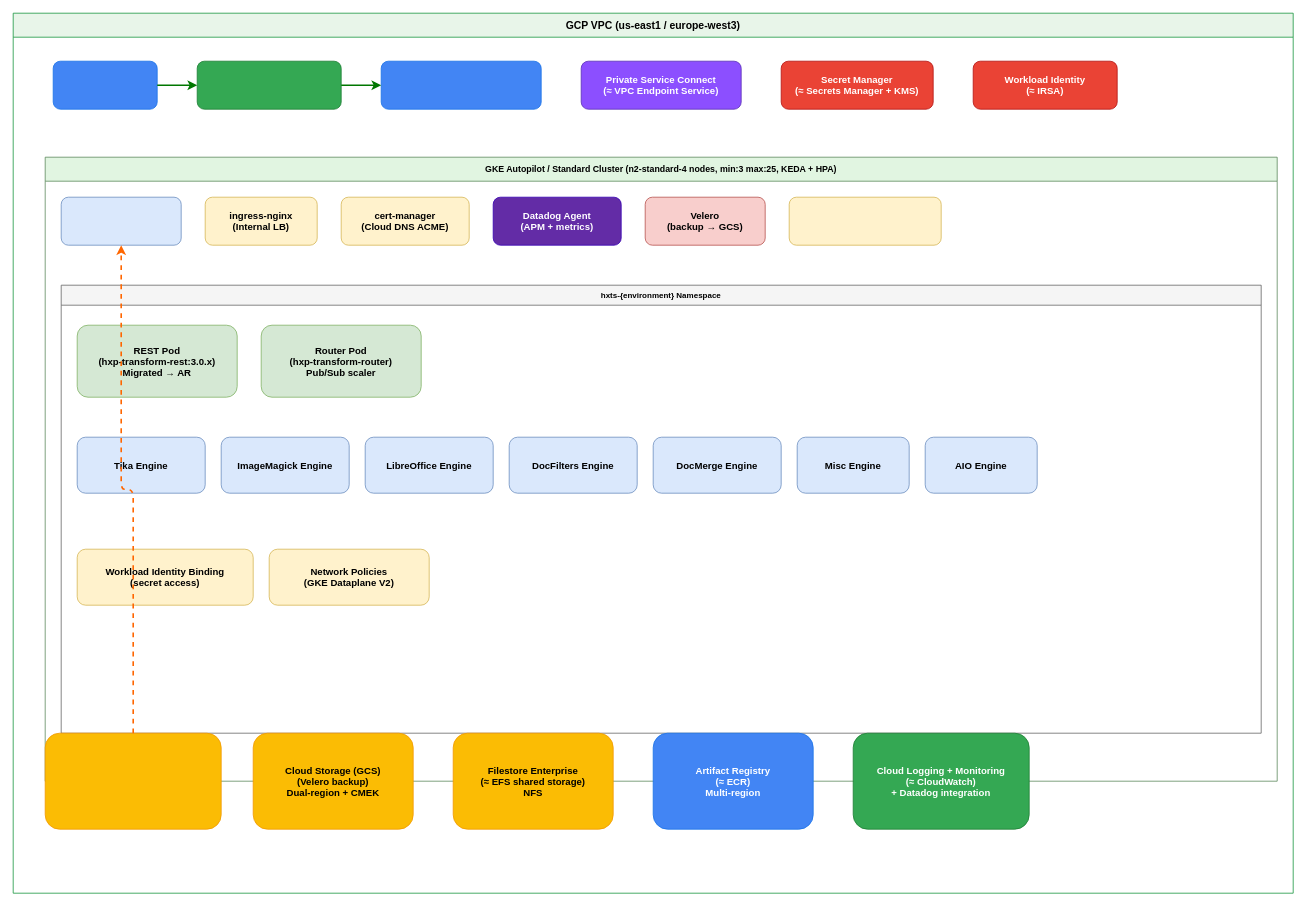
Some shapes in this 1306 by 906 pixel diagram are drawn without their labels. Here are the shapes that lost their labels. From the top down, the centre of each, then its label:
the point at 104,84: Cloud DNS
the point at 268,84: Cloud Armor (WAF) + Cloud CDN
the point at 460,84: Cloud HTTPS LB (global, regional)
the point at 120,220: KEDA v2.x (Pub/Sub Scaler)
the point at 864,220: GKE Addons (Config Connector, Anthos)
the point at 132,780: Pub/Sub (≈ SQS + SNS) transform-request transform-reply Per-engine subscriptions
